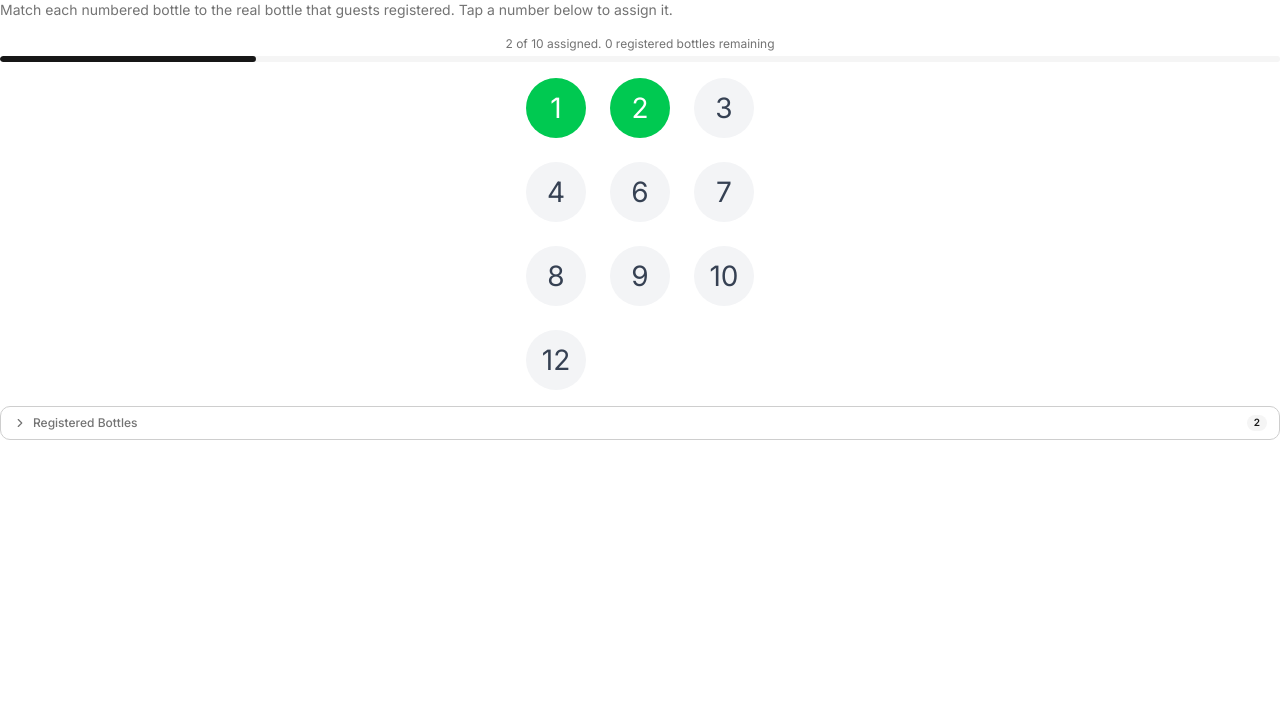
it: AssignmentView › US2: Assignment via Bottom Sheet › shows empty state when all bottles are assigned
Click the button with test id "assignment-button-3" at (724, 108), box [694,78,754,138]
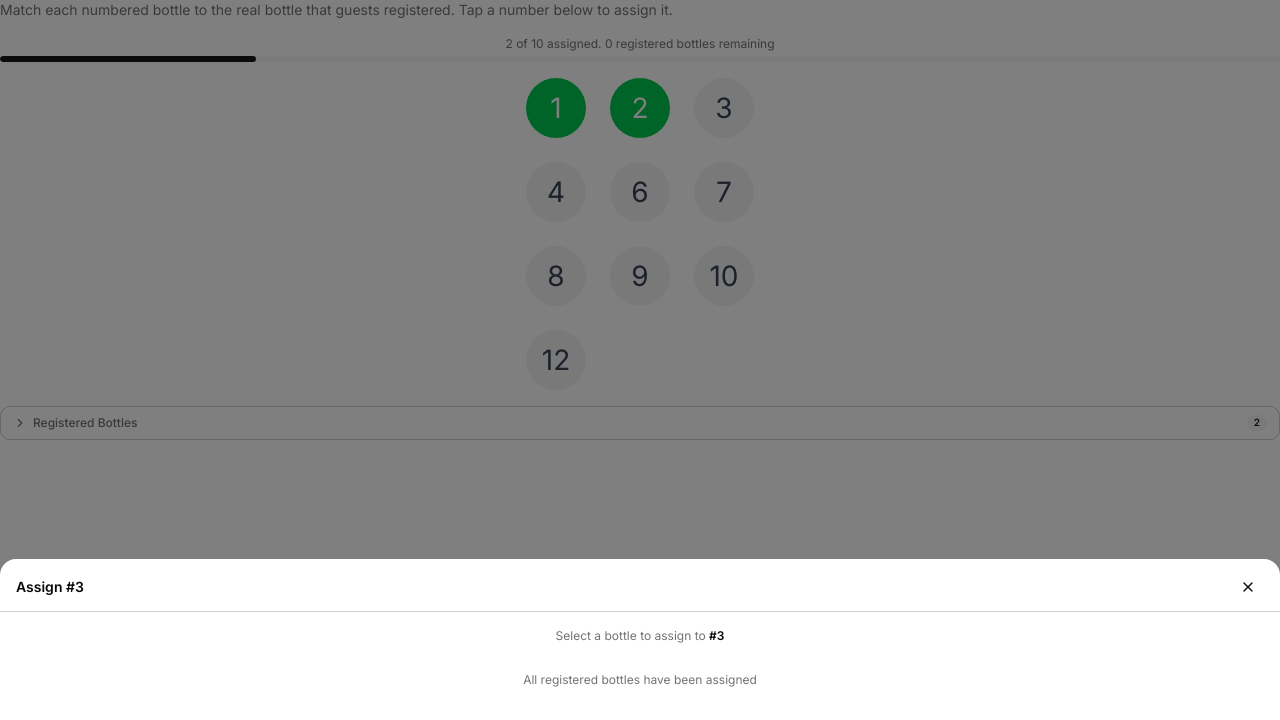
Check: the text with test id "empty-state" reads "All registered bottles have been assigned", box [523,672,757,687]
